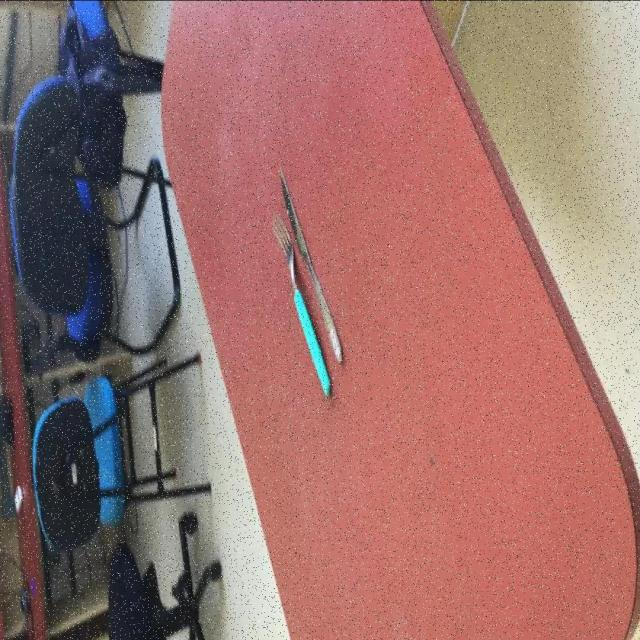Fork: (270, 214, 331, 399)
Knife: (277, 167, 343, 366), (270, 213, 331, 399)
